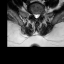CCS_normal: (35, 11, 37, 20)
LFS_stenosis: (39, 11, 42, 17)
LLS_normal: (37, 11, 39, 19)
RFS_stenosis: (31, 10, 33, 16)
RLS_normal: (33, 11, 35, 19)
